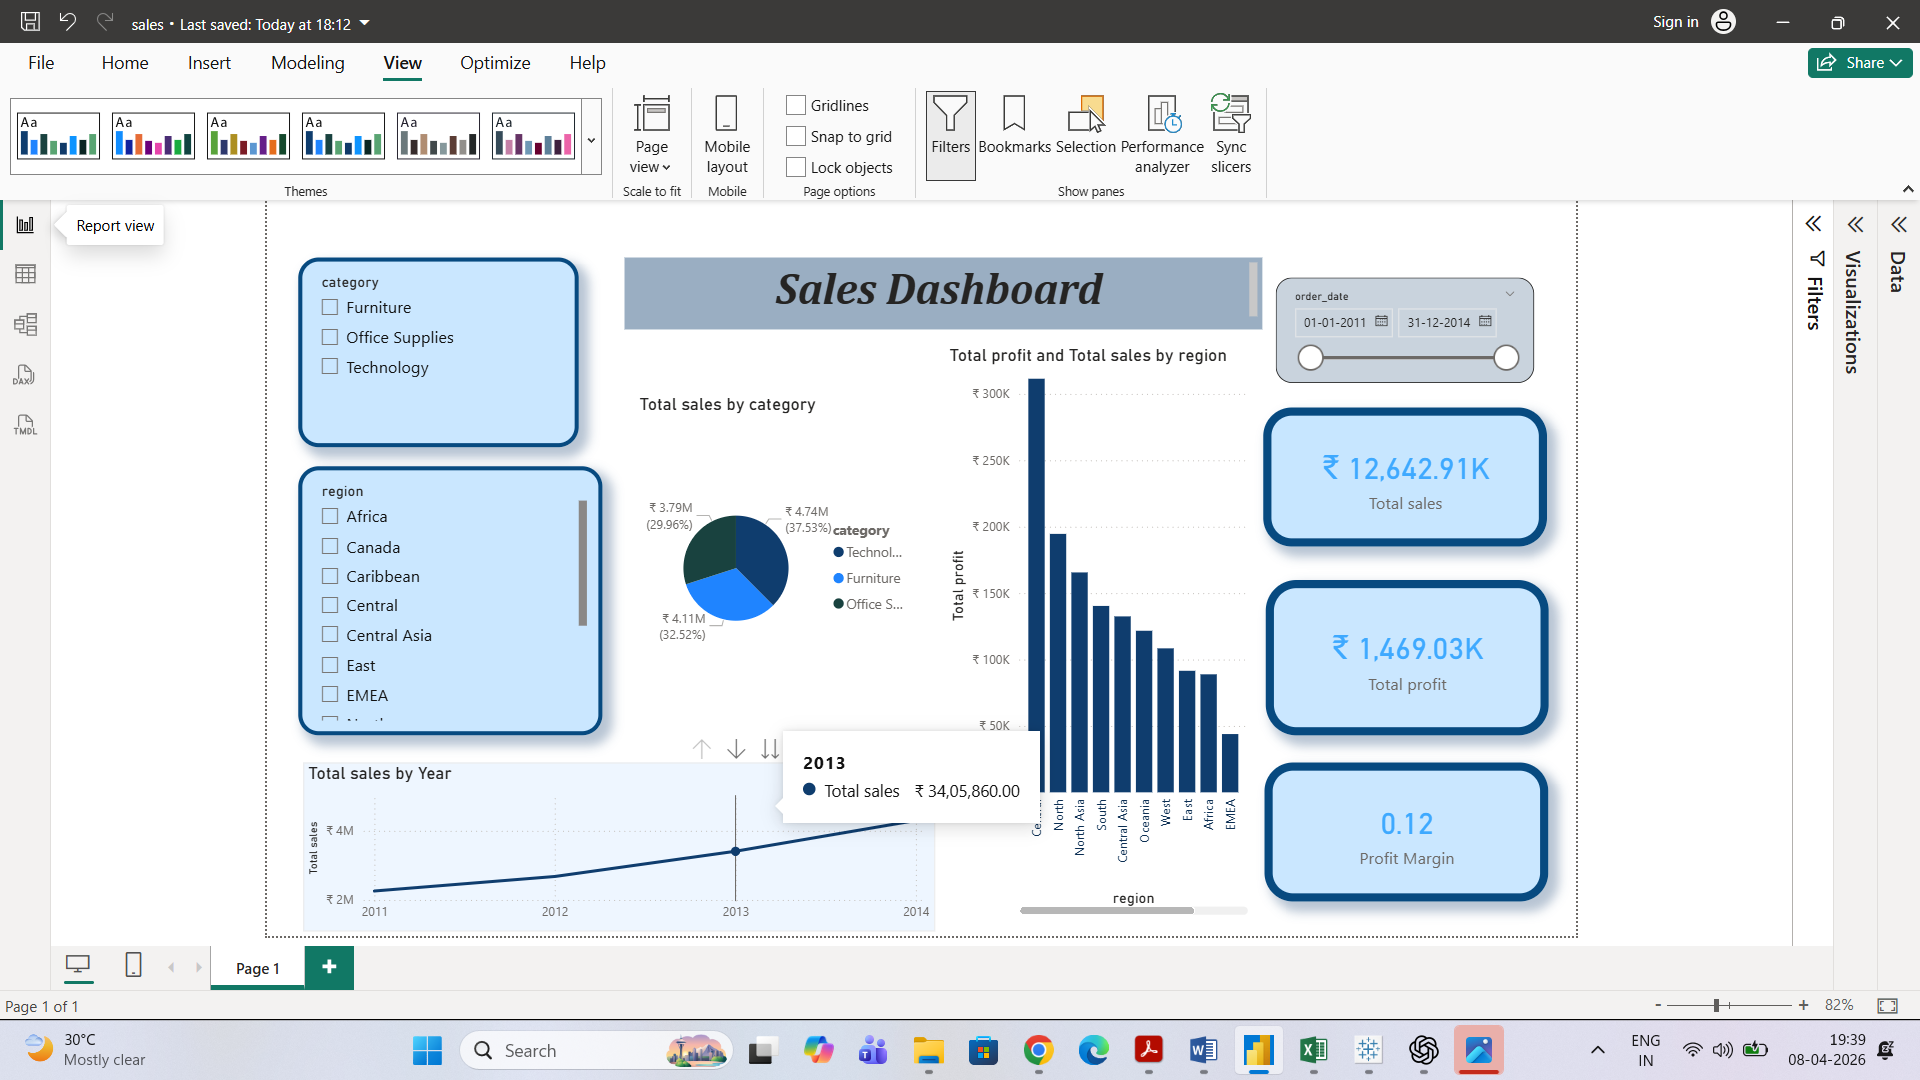

What the dashboard file says about the page in this screenshot:
{"tool":"powerbi","page":{"name":"Page 1","canvas":[1280,720],"ordinal":0},"visuals":[{"type":"card","fields":{"Values":["SuperStoreOrders.Total sales"]},"box":[974,202.6,277.9,136.4],"z":0},{"type":"card","fields":{"Values":["SuperStoreOrders.Total profit"]},"box":[976.6,371.4,276.6,151.9],"z":1000},{"type":"card","fields":{"Values":["SuperStoreOrders.Profit Margin"]},"box":[975.3,550.6,277.9,136.4],"z":2000},{"type":"lineChart","fields":{"Category":["SuperStoreOrders.order_date.Variation.Date Hierarchy.Year","SuperStoreOrders.order_date.Variation.Date Hierarchy.Quarter","SuperStoreOrders.order_date.Variation.Date Hierarchy.Month","SuperStoreOrders.order_date.Variation.Date Hierarchy.Day"],"Y":["SuperStoreOrders.Total sales"]},"box":[35.7,550.3,617.5,164.7],"z":3000},{"type":"pieChart","fields":{"Category":["SuperStoreOrders.category"],"Y":["SuperStoreOrders.Total sales"]},"box":[359.5,189.4,279.9,322.5],"z":4000},{"type":"slicer","fields":{"Values":["SuperStoreOrders.category"]},"box":[30.2,56.3,274.4,185.2],"z":5000},{"type":"slicer","fields":{"Values":["SuperStoreOrders.region"]},"box":[30.2,260.7,297.8,263.5],"z":6000},{"type":"slicer","fields":{"Values":["SuperStoreOrders.order_date"]},"box":[986.6,75.5,252.5,102.9],"z":7000},{"type":"columnChart","fields":{"Category":["SuperStoreOrders.region"],"Y":["SuperStoreOrders.Total profit","select","select1"]},"box":[662.8,141.3,301.9,562.6],"z":8000},{"type":"textbox","box":[349.9,56.3,624.4,70],"z":9000}]}

Visuals, with their boxes on the page's 1280x720 design canvas (x1, y1, x2, y2). These are canvas units, not pixel positions in the 1920x1080 screenshot, which may show the page scaled, cropped or inside an application window:
card - SuperStoreOrders.Total sales: <bbox>974, 203, 1252, 339</bbox>
card - SuperStoreOrders.Total profit: <bbox>977, 371, 1253, 523</bbox>
card - SuperStoreOrders.Profit Margin: <bbox>975, 551, 1253, 687</bbox>
lineChart - SuperStoreOrders.order_date.Variation.Date Hierarchy.Year x SuperStoreOrders.order_date.Variation.Date Hierarchy.Quarter: <bbox>36, 550, 653, 715</bbox>
pieChart - SuperStoreOrders.category x SuperStoreOrders.Total sales: <bbox>360, 189, 639, 512</bbox>
slicer - SuperStoreOrders.category: <bbox>30, 56, 305, 242</bbox>
slicer - SuperStoreOrders.region: <bbox>30, 261, 328, 524</bbox>
slicer - SuperStoreOrders.order_date: <bbox>987, 76, 1239, 178</bbox>
columnChart - SuperStoreOrders.region x SuperStoreOrders.Total profit: <bbox>663, 141, 965, 704</bbox>
textbox: <bbox>350, 56, 974, 126</bbox>
